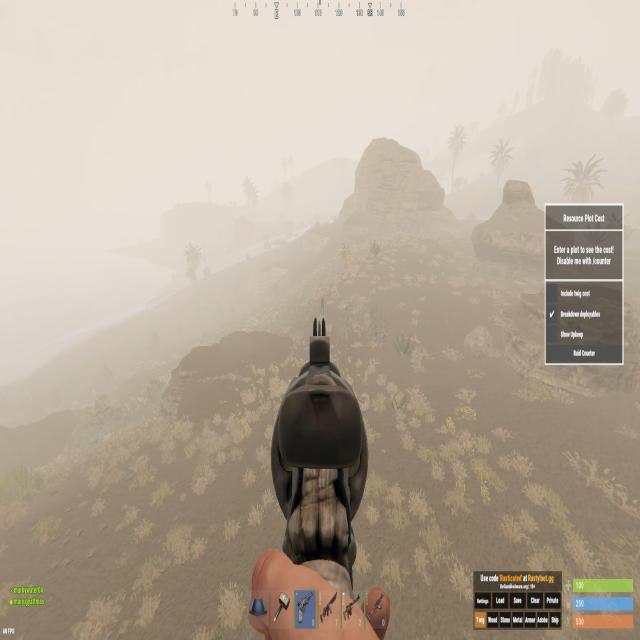Player: (320, 295, 325, 317)
